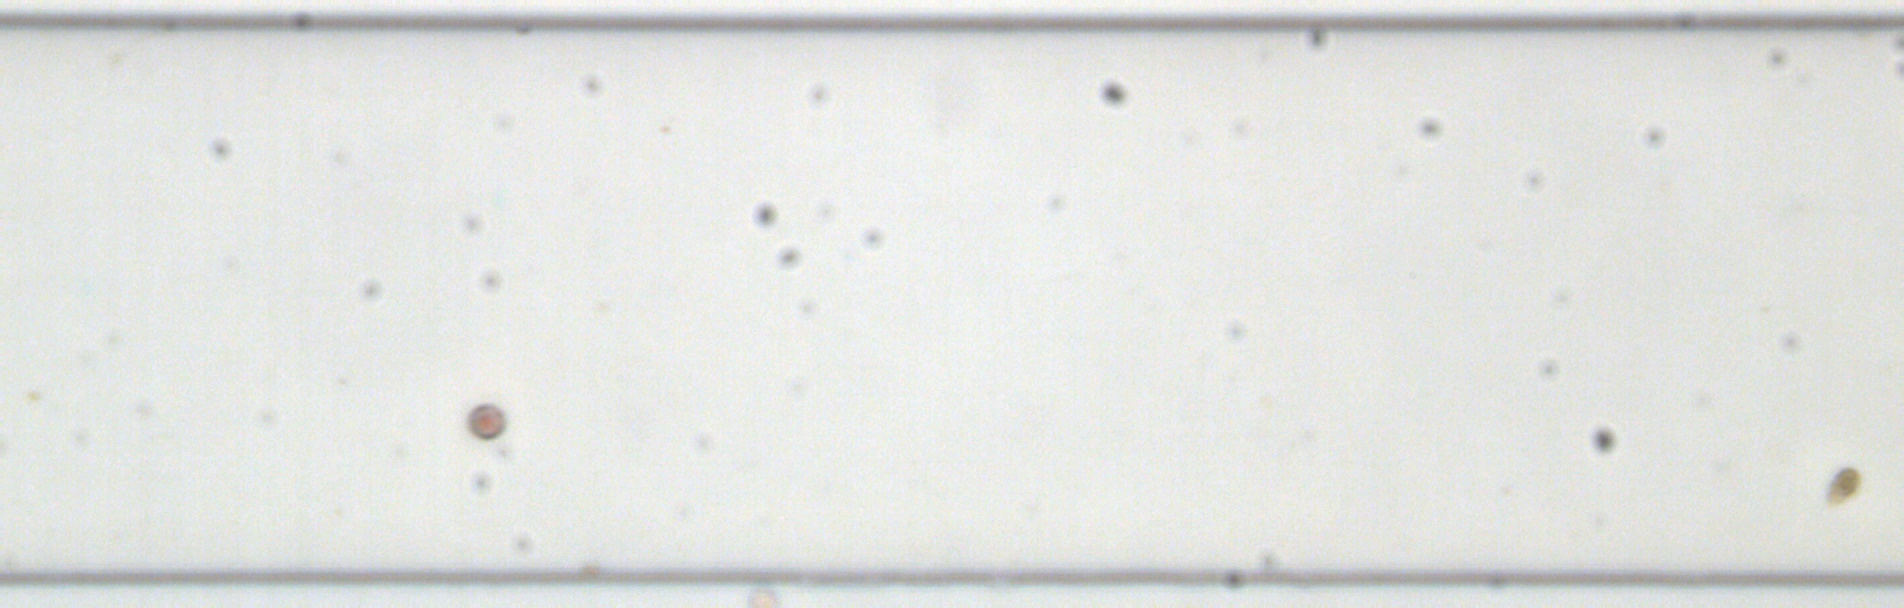Dunaliella salina: (1821, 464, 1861, 505)
Porphyridium: (464, 400, 508, 441)
